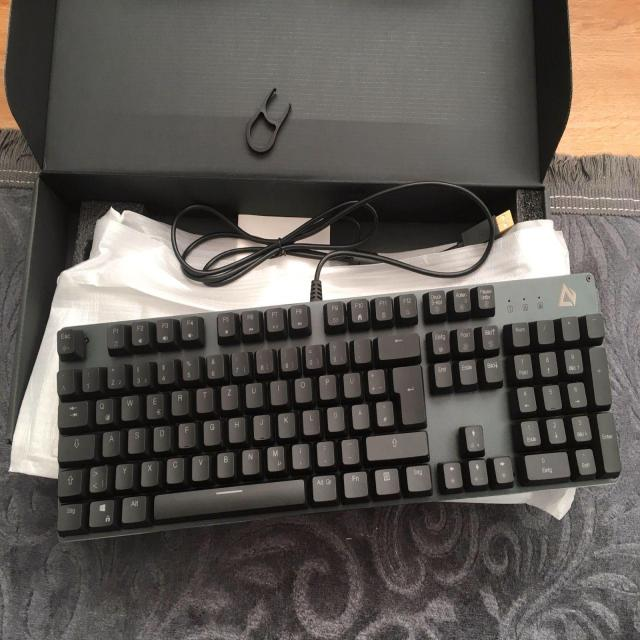0: (303, 341, 324, 369)
1: (80, 365, 99, 392)
2: (106, 362, 124, 388)
3: (131, 358, 150, 387)
4: (156, 356, 174, 383)
5: (181, 353, 200, 380)
6: (206, 352, 225, 379)
7: (230, 349, 249, 375)
8: (254, 346, 274, 373)
9: (278, 344, 298, 371)
a: (101, 429, 119, 456)
accent: (351, 336, 371, 362)
ae: (350, 402, 370, 429)
alt-left: (120, 494, 147, 522)
altgr-right: (310, 473, 337, 502)
b: (216, 450, 235, 477)
c: (165, 456, 184, 482)
caret: (56, 367, 74, 394)
comma: (291, 442, 310, 468)
d: (152, 424, 170, 451)
del: (377, 331, 420, 359)
e: (145, 392, 164, 419)
enter: (391, 363, 425, 425)
f: (177, 421, 195, 447)
g: (202, 418, 220, 444)
h: (227, 416, 246, 442)
hash: (375, 399, 394, 426)
i: (269, 378, 287, 404)
j: (252, 413, 271, 440)
k: (276, 410, 296, 437)
keyboard: (52, 265, 626, 546)
l: (301, 408, 320, 434)
less: (88, 463, 108, 492)
m: (265, 444, 285, 471)
minus: (340, 438, 359, 464)
n: (241, 447, 260, 474)
o: (293, 376, 312, 402)
oe: (326, 405, 344, 431)
p: (318, 373, 337, 398)
plus: (366, 367, 385, 394)
point: (315, 440, 334, 465)
q: (94, 396, 114, 424)
r: (170, 389, 189, 415)
s: (127, 426, 145, 453)
shift-left: (56, 467, 82, 496)
shift-lock: (57, 433, 95, 460)
shift-right: (365, 431, 429, 460)
space: (152, 477, 307, 518)
ss: (327, 338, 346, 364)
strg-left: (56, 502, 82, 530)
strg-right: (404, 463, 432, 492)
t: (195, 386, 214, 412)
tab: (57, 400, 88, 427)
u: (244, 381, 263, 407)
ue: (342, 371, 360, 397)
v: (191, 453, 210, 480)
w: (120, 393, 139, 420)
x: (140, 459, 159, 486)
y: (114, 463, 133, 489)
z: (220, 383, 238, 409)
